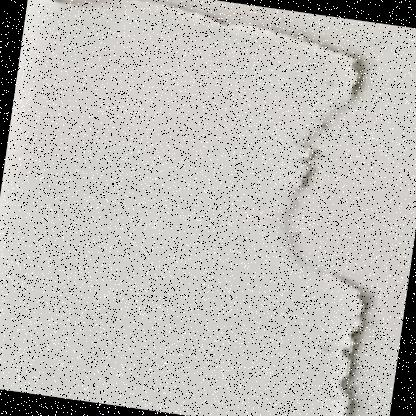Crack: (212, 50, 415, 415), (22, 0, 391, 89)
